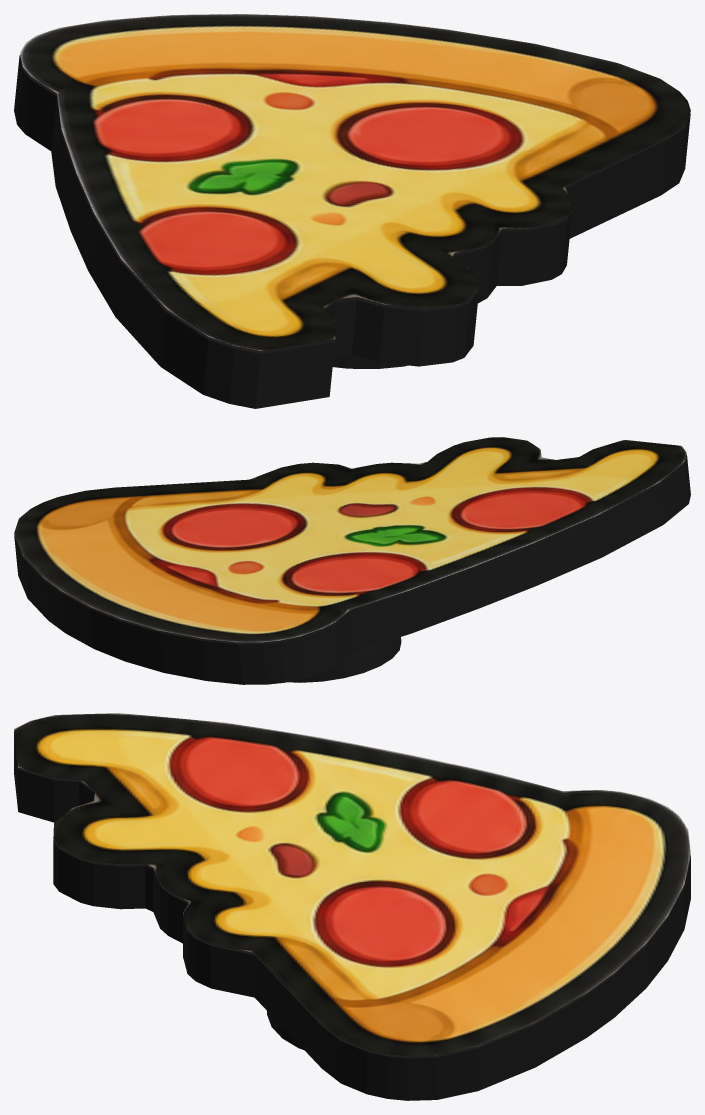
File: food-pizza.glb
3 renders of one model, top to bottom at view 1: azimuth 30°, elevation 25°; view 2: azimuth 150°, elevation 25°; view 3: azimuth 270°, elevation 25°, orthographic. The views are drawn at different scales.
Parts seen in each view (by area): view 1: FOOD_Pizza_MODEL; view 2: FOOD_Pizza_MODEL; view 3: FOOD_Pizza_MODEL.
Part boxes in pixels (bbox=[...]): FOOD_Pizza_MODEL: bbox=[14, 14, 690, 408]; FOOD_Pizza_MODEL: bbox=[14, 437, 690, 684]; FOOD_Pizza_MODEL: bbox=[14, 713, 690, 1100].
Bounding box in the file's own units: 0.3426 × 0.1004 × 0.3481.
Materials: 3 (1 with a texture image).
